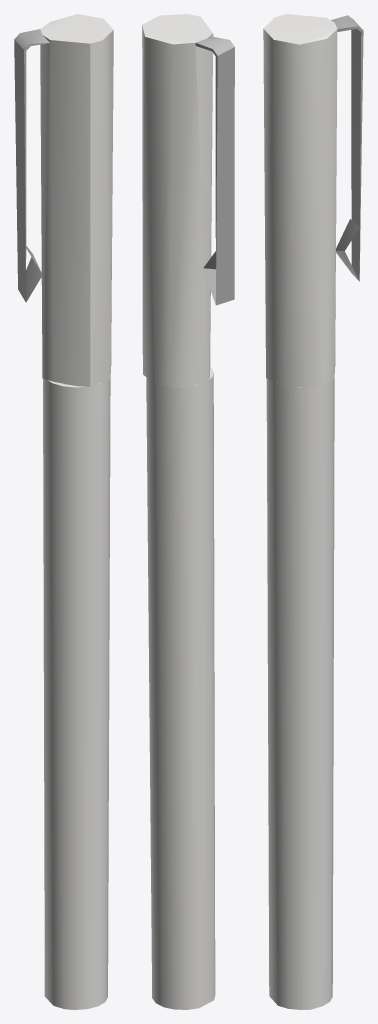
Rendered from SM_Pencil_2.fbx.
3 renders of one model, left to right at view 1: azimuth 90°, elevation 25°; view 2: azimuth 210°, elevation 25°; view 3: azimuth 270°, elevation 25°, orthographic.
Parts seen in each view (by area): view 1: SM_Pencil_2; view 2: SM_Pencil_2; view 3: SM_Pencil_2.
Boxes of the visible parts, left/top/right/bottom form: SM_Pencil_2: left=14, top=14, right=113, bottom=1009; SM_Pencil_2: left=142, top=14, right=234, bottom=1009; SM_Pencil_2: left=263, top=14, right=363, bottom=1009.
Bounding box in the file's own units: 0.0123 × 0.1742 × 0.0162.
Materials: 2 (1 with a texture image).
